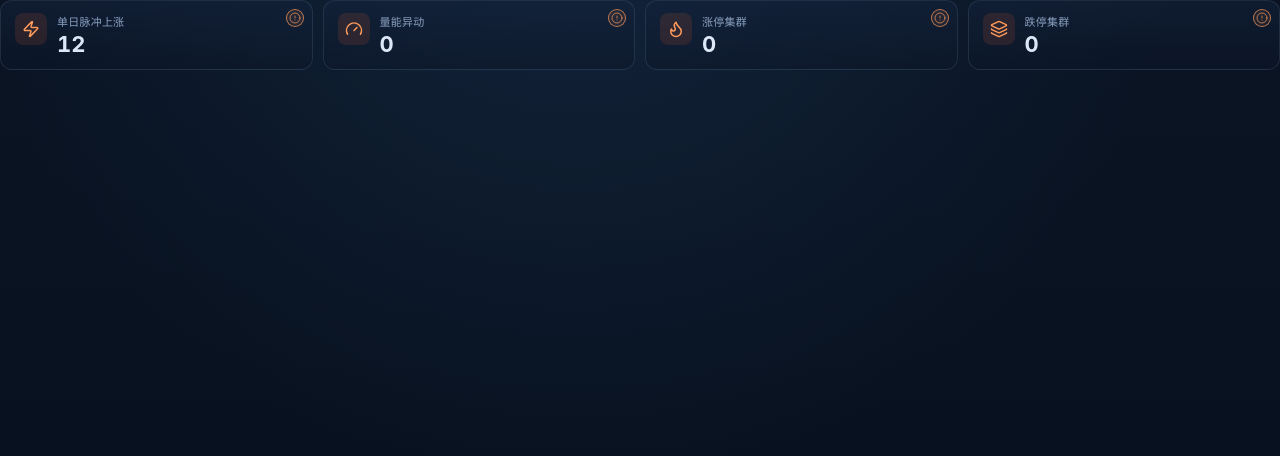
Test: ShortTermKpi › 超过一页时仍全部渲染且可在列表内滚动
This screenshot has width=1280, height=456.
Hover over the text "单日脉冲上涨" at (156, 35), box 0,0 -> 312,70
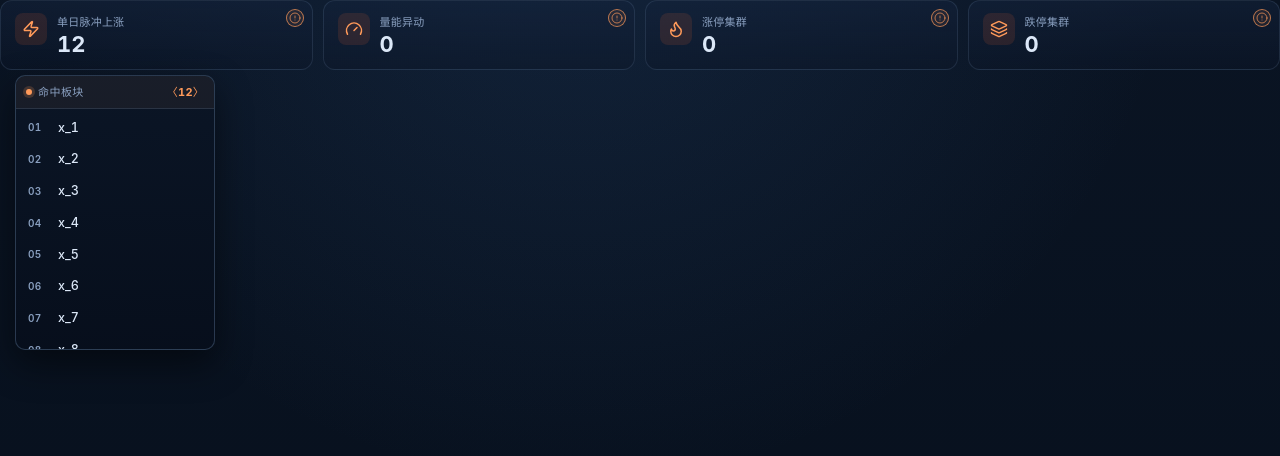
Expected: the tooltip with class "kpi-sector-popover" is shown, 15,75 -> 215,350
Expected: the text "x_1" is shown, 58,120 -> 79,134
Expected: the list with class "kpi-sector-popover__list" is shown, 16,108 -> 214,348
